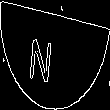N_N: (41, 27, 69, 83)
